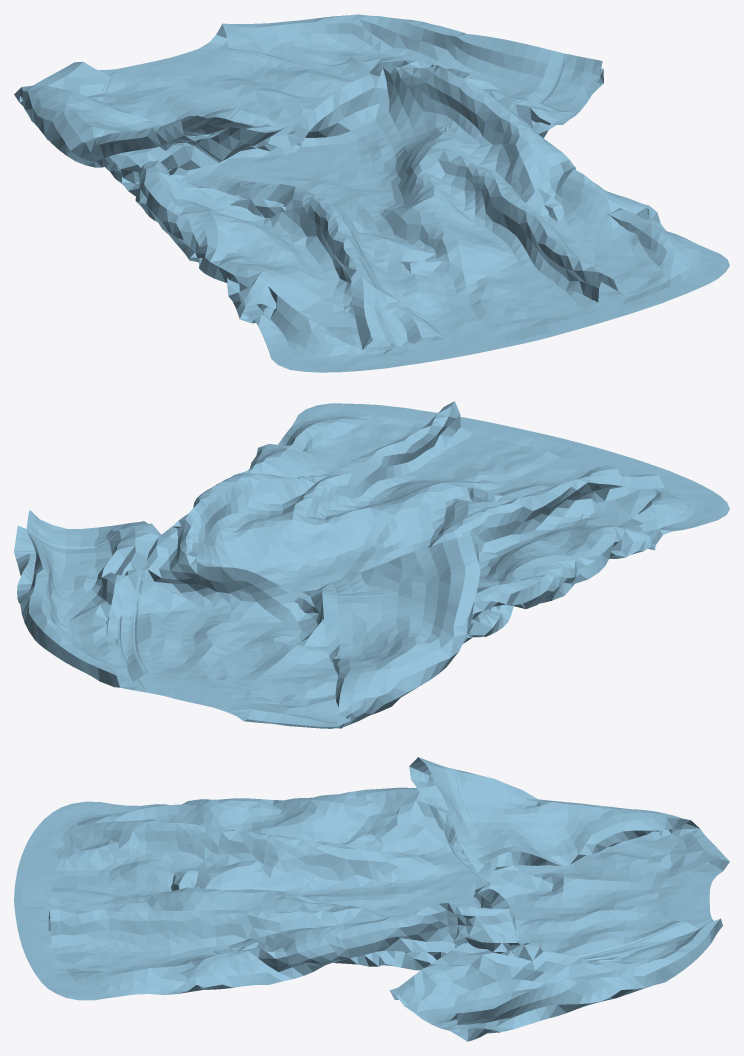
File: frame_20.glb
3 renders of one model, top to bottom at view 1: azimuth 30°, elevation 25°; view 2: azimuth 150°, elevation 25°; view 3: azimuth 270°, elevation 25°, orthographic. The views are drawn at different scales.
Parts seen in each view (by area): view 1: frame_20.obj; view 2: frame_20.obj; view 3: frame_20.obj.
Boxes of the visible parts, box(x1,y1,x2,y2) form: frame_20.obj: box(14, 14, 729, 372); frame_20.obj: box(14, 401, 729, 728); frame_20.obj: box(14, 757, 729, 1041).
Bounding box in the file's own units: 1.44 × 0.2552 × 1.83.
